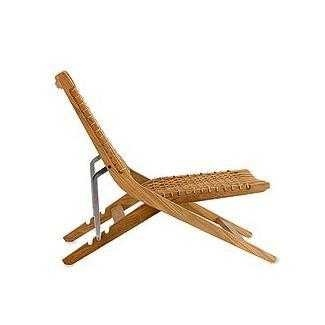obstacle: (55, 71, 275, 264)
